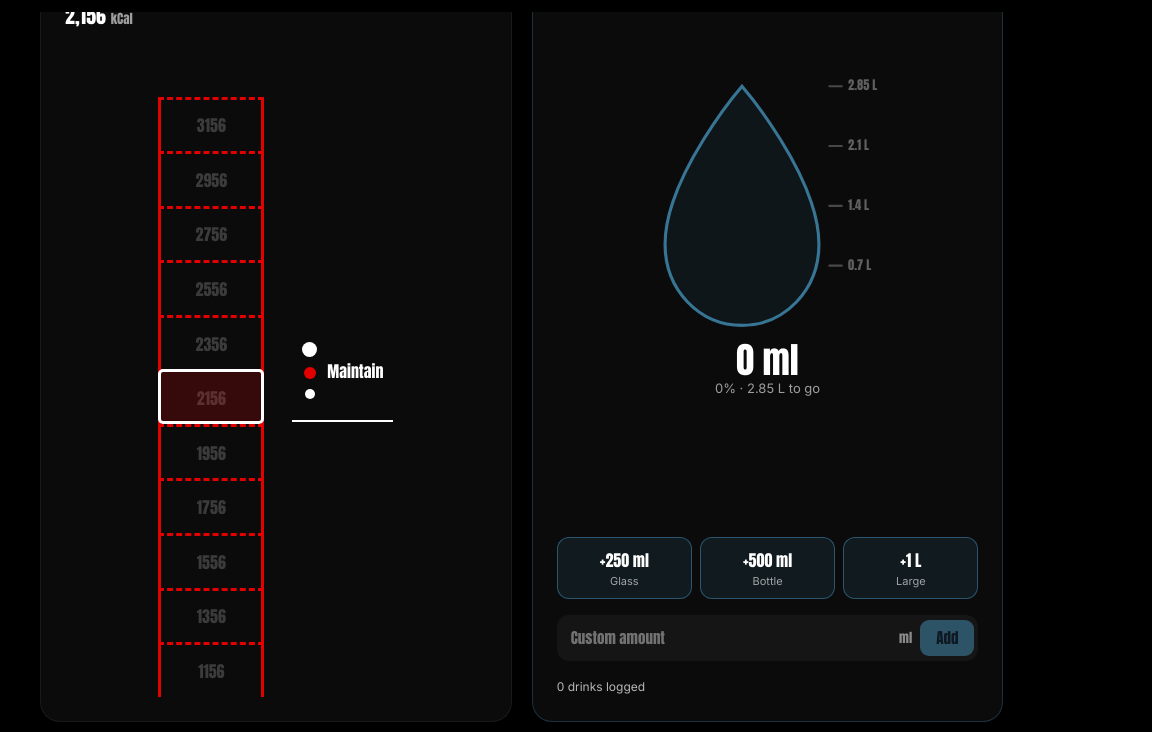
diet page summary › keeps the new goal when saving it fails
(page scrolled)
Click the button with aria-label "Calorie goal: Maintain. Click to change".
click(343, 372)  # box [292,322,393,422]
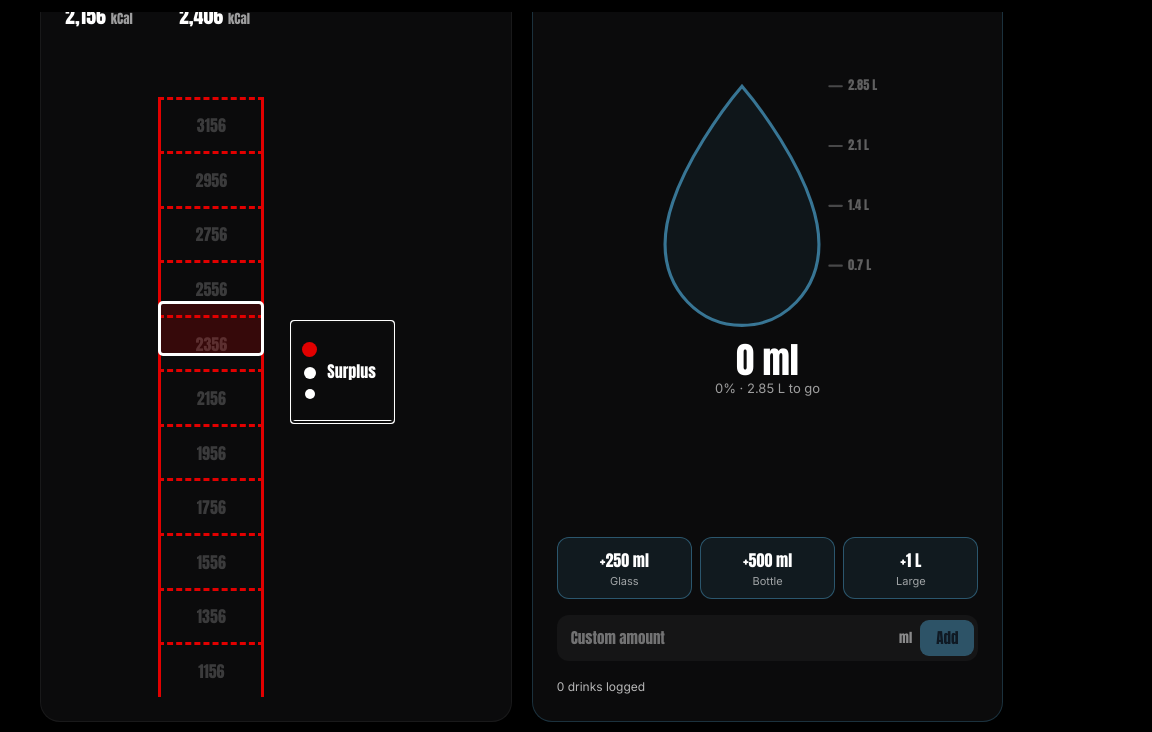
Expected: the button with aria-label "Calorie goal: Surplus. Click to change" is shown, [292,322,393,422]
